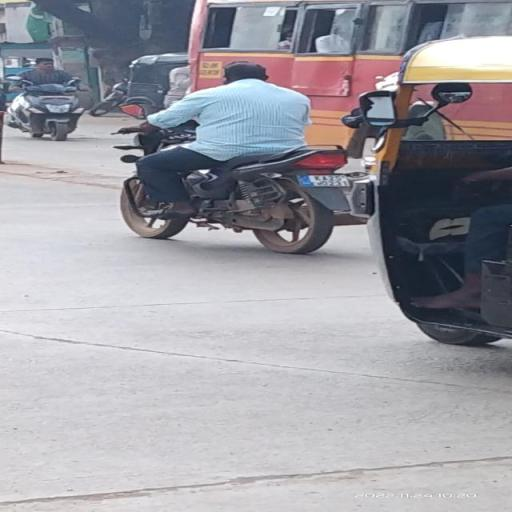bike: (108, 58, 364, 254)
numberplate: (298, 173, 352, 188)
withouthelmet: (222, 61, 267, 81)
